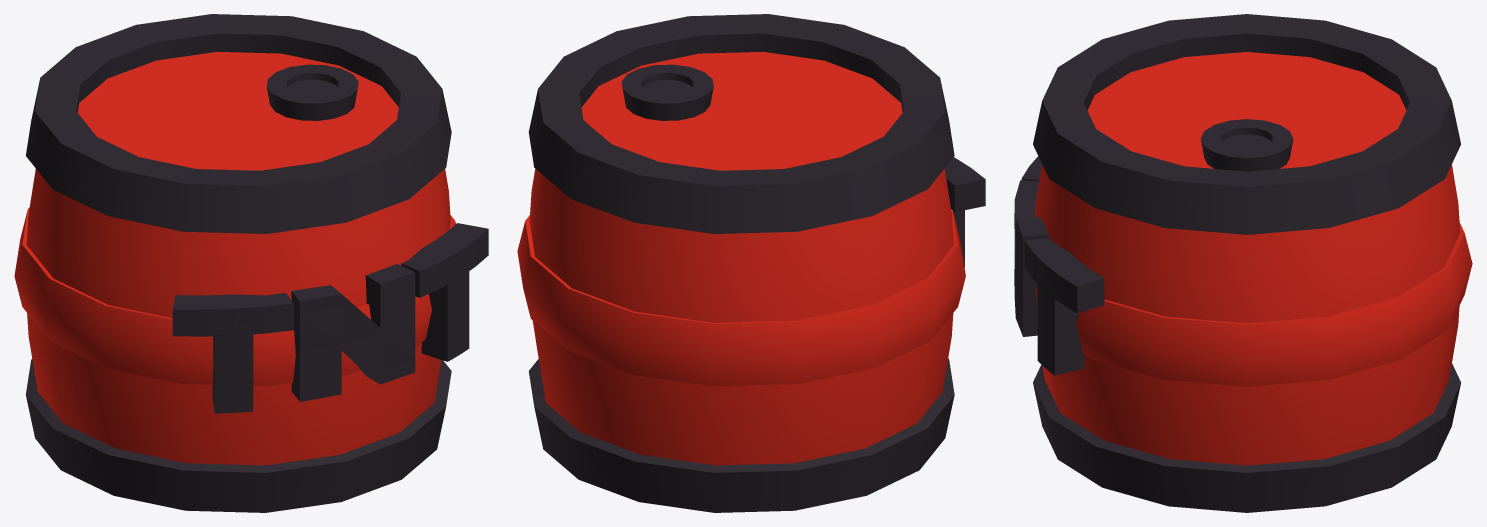
File: Barrel.fbx
The picture shows the model from 3 angles, left to right: view 1: azimuth 30°, elevation 25°; view 2: azimuth 150°, elevation 25°; view 3: azimuth 270°, elevation 25°; orthographic projection.
Visible parts, largest first — view 1: Barrel; view 2: Barrel; view 3: Barrel.
Boxes of the visible parts, x1,y1,x2,y2 form: Barrel: [14, 14, 488, 512]; Barrel: [517, 14, 985, 512]; Barrel: [1014, 14, 1472, 512].
Bounding box in the file's own units: 120 × 95.69 × 122.
